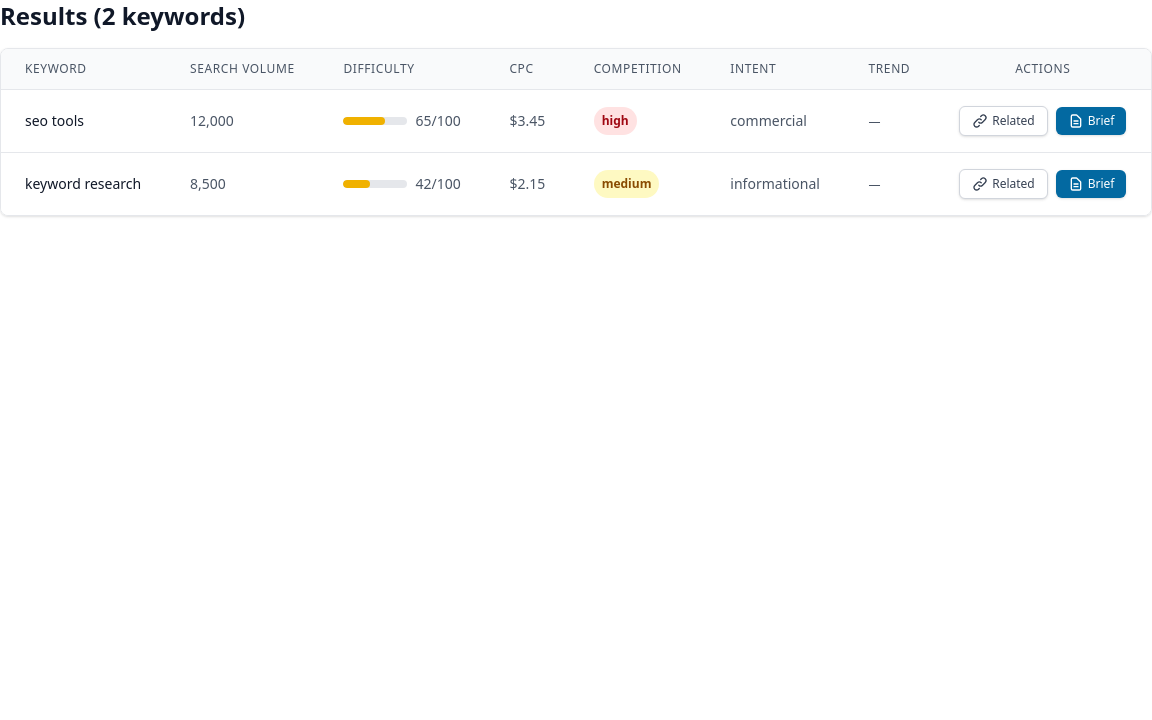
Test: KeywordResultsTable › content brief modal › should open content brief modal when Brief button is clicked
Click the button "Brief" in the row of "seo tools" at x=1091, y=121, box [1056,107,1126,135]
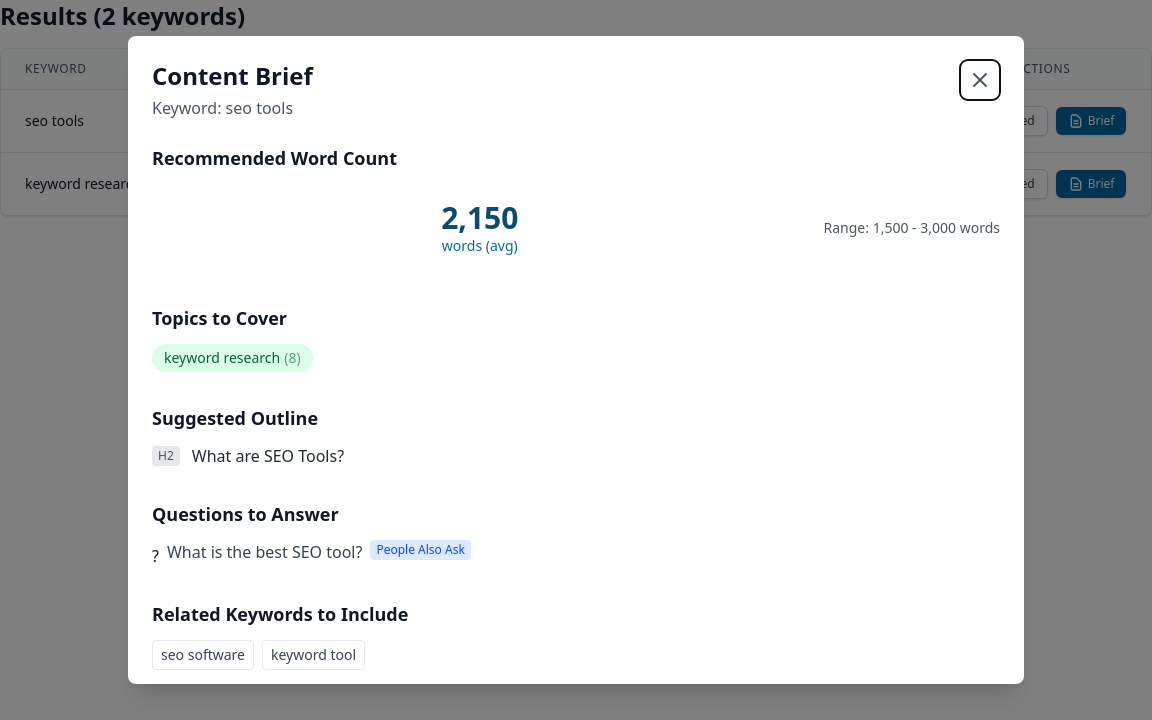
Check: the dialog is shown
Check: the heading "Content Brief" is shown, box [152,60,313,92]
